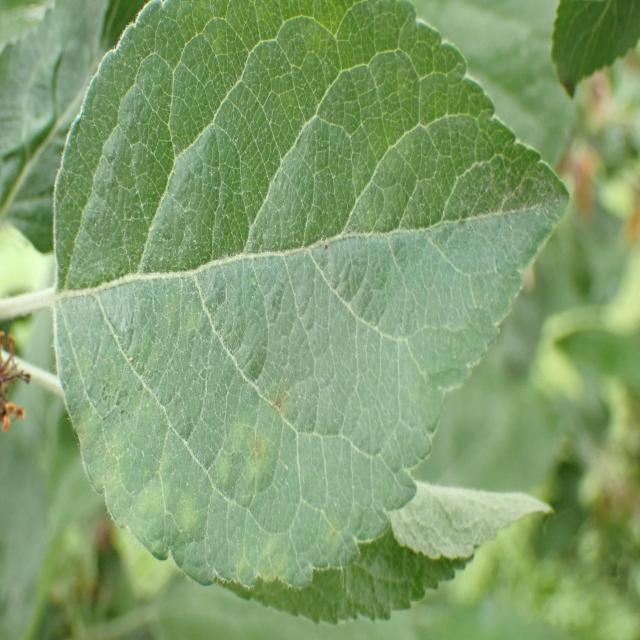scab: (40, 115, 553, 579)
